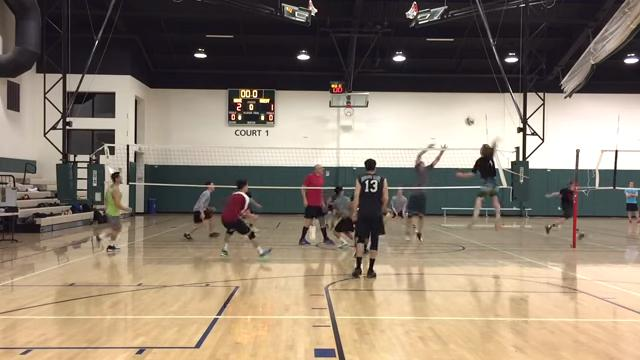Attack: (450, 136, 513, 238)
Block: (398, 135, 444, 244)
Player: (352, 159, 388, 277), (221, 180, 270, 256), (299, 164, 334, 244), (97, 172, 130, 241), (183, 181, 218, 240), (333, 186, 353, 247), (244, 192, 261, 232), (390, 189, 407, 217), (326, 192, 339, 228)
ball: (464, 116, 477, 129)
